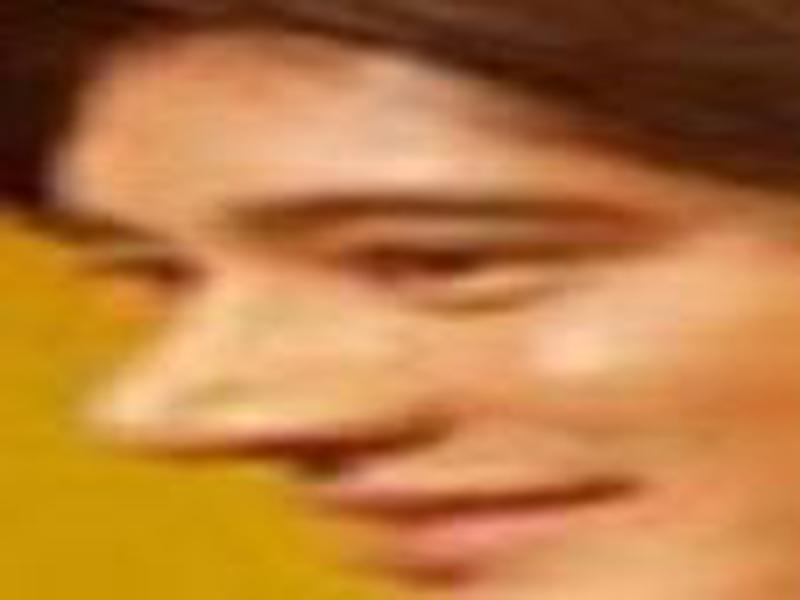without_mask: (34, 63, 800, 600)
